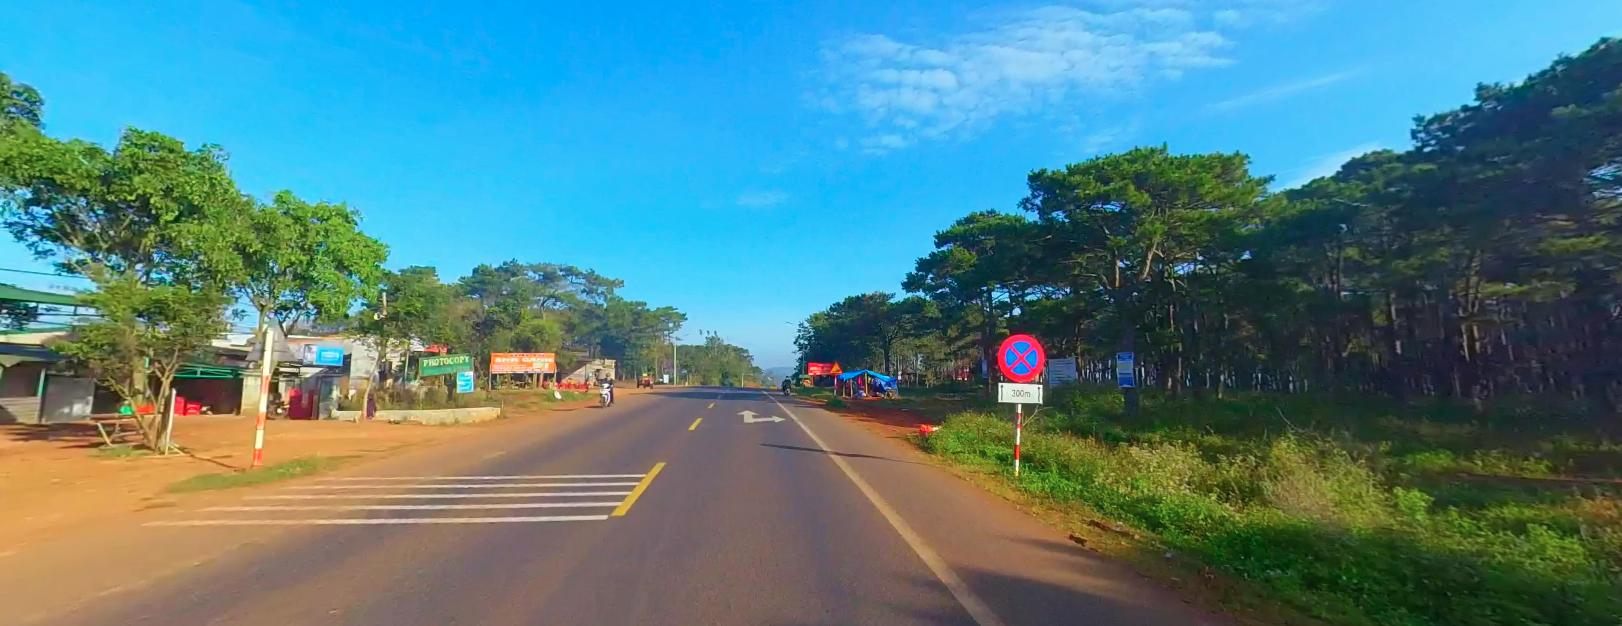Cam dung va do: (998, 331, 1046, 380), (997, 333, 1045, 380)
Nguy hiem: (829, 360, 842, 372)
